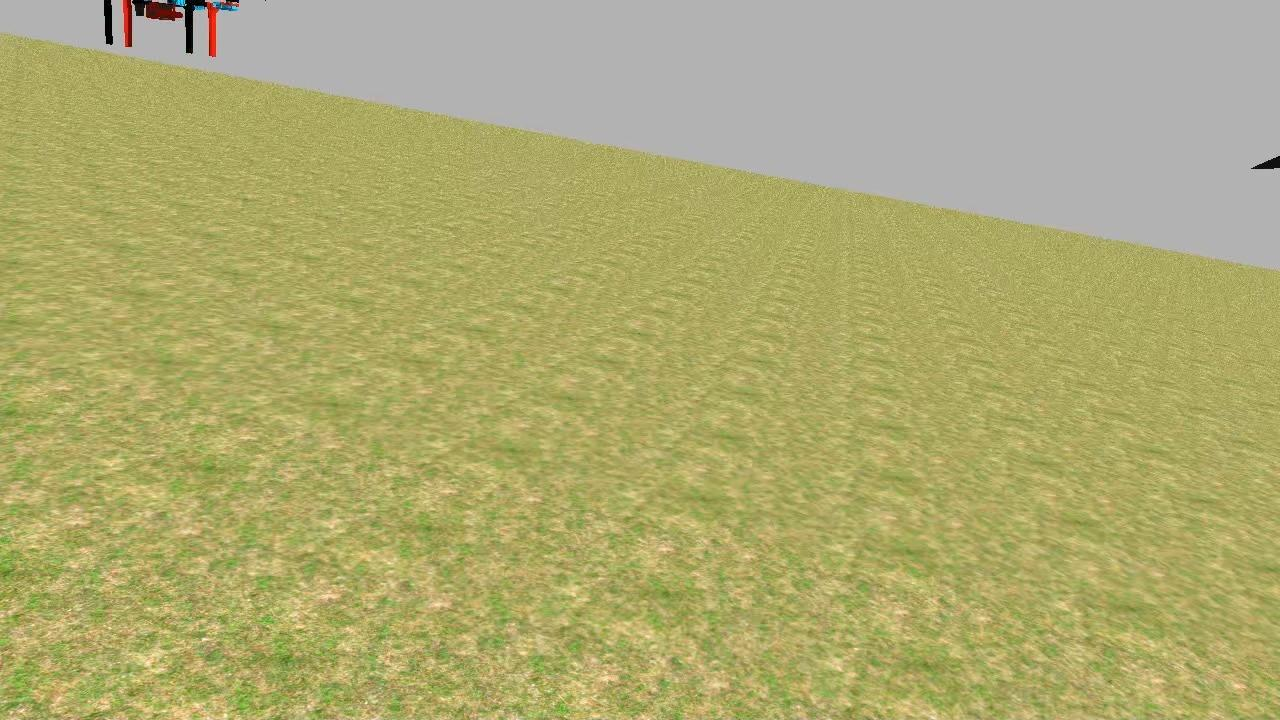UAV: (92, 0, 240, 62)
